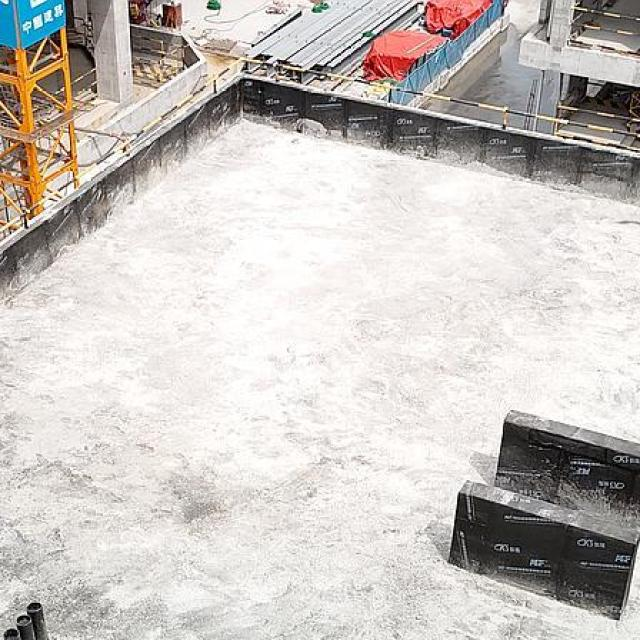edge_guardrail: (0, 57, 640, 292), (553, 99, 640, 154), (567, 5, 640, 59), (129, 34, 191, 70), (54, 66, 97, 100)
